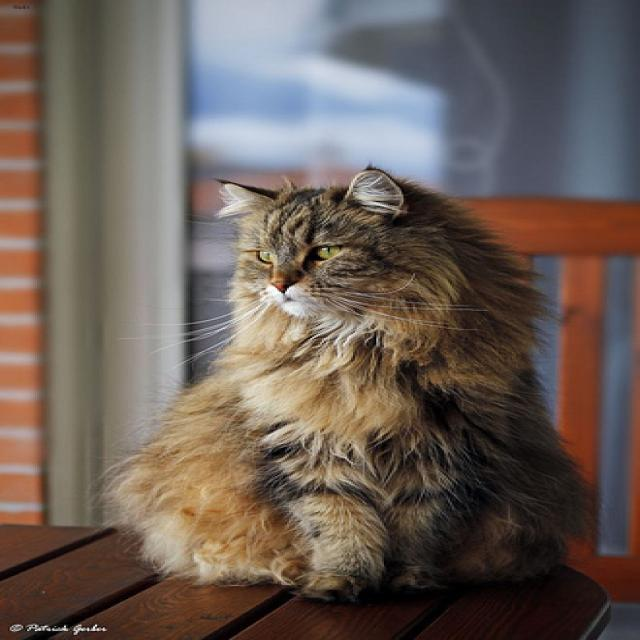Maine_Coon: (216, 166, 408, 315)
